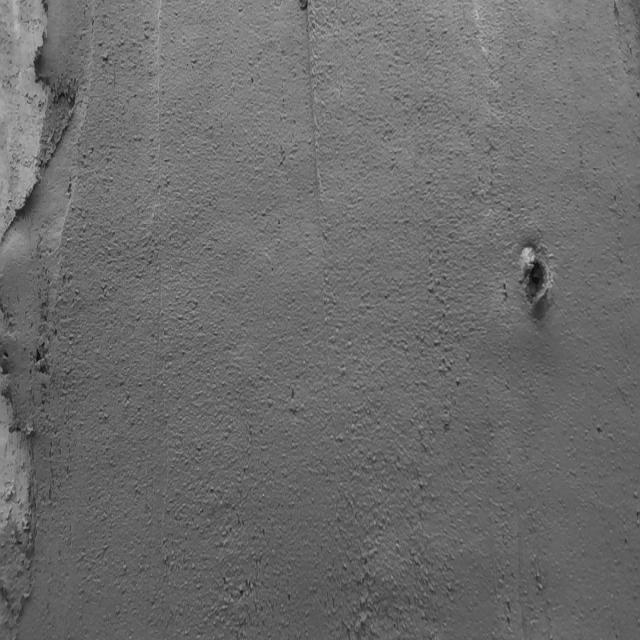trowels marks: (148, 9, 174, 579), (296, 1, 332, 337)
